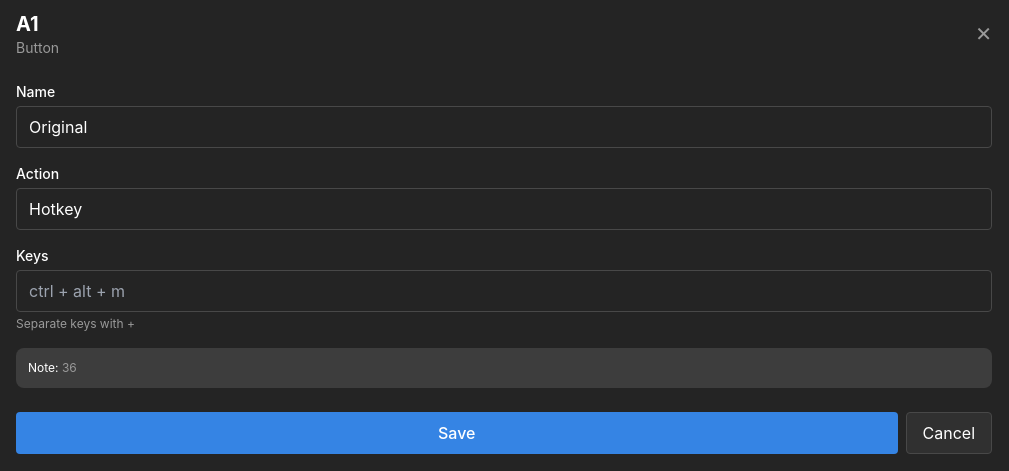
Test: ControlConfig › should revert mapping on Cancel click
The image size is (1009, 471).
// Change name
Replace the text in the 1st field with "Changed": (504, 127) top-left (16, 106), bottom-right (992, 148)
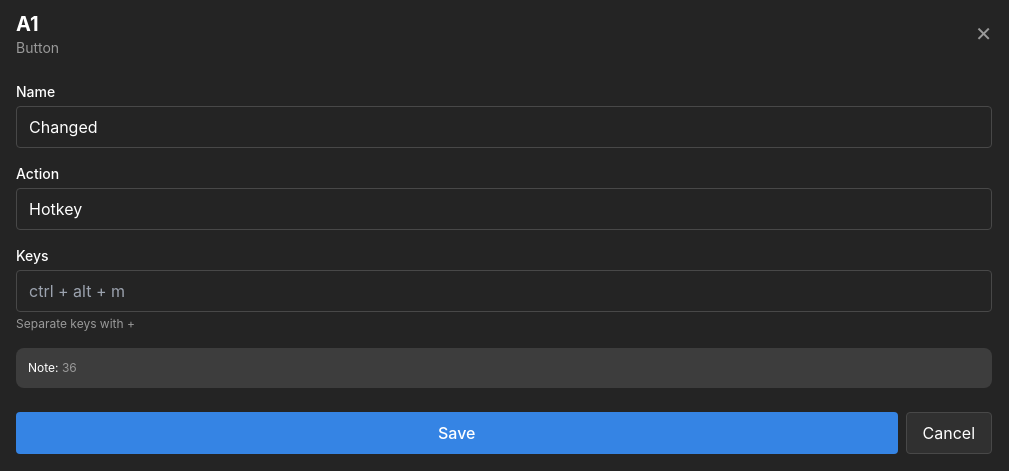
// Click Cancel
Click the button "Cancel": (949, 433) top-left (906, 412), bottom-right (992, 454)
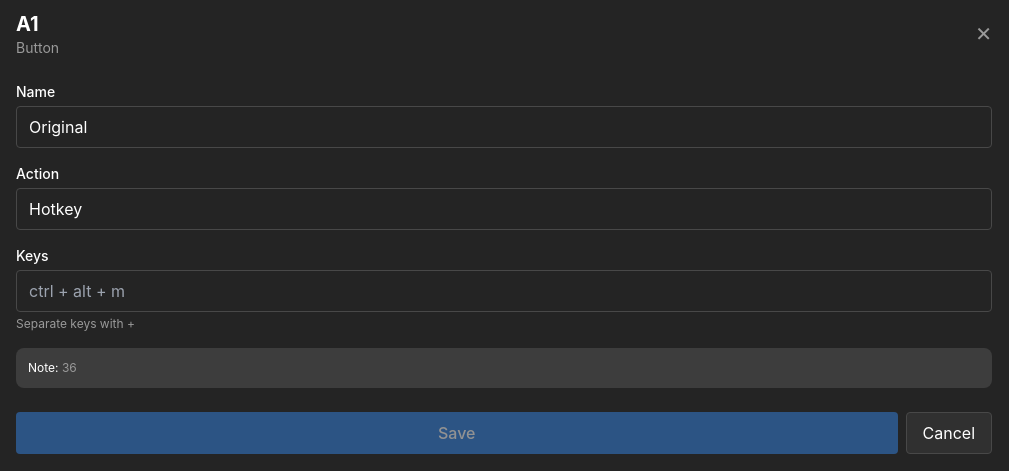
Result: the 1st field holds "Original" at top-left (16, 106), bottom-right (992, 148)
